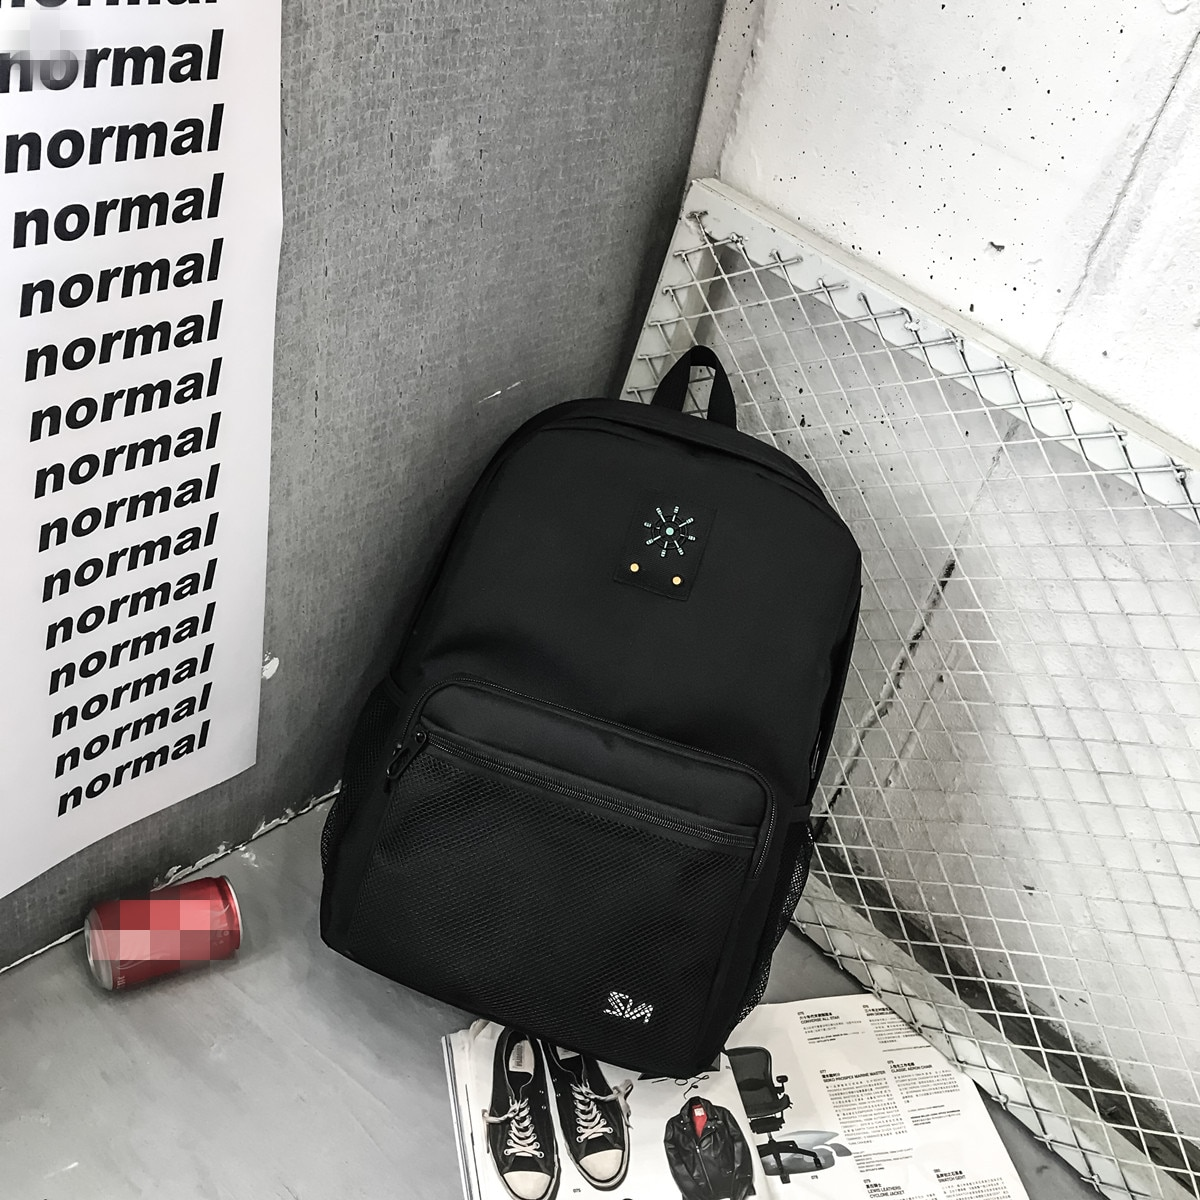Men's Backpacks: (316, 347, 864, 1081)
